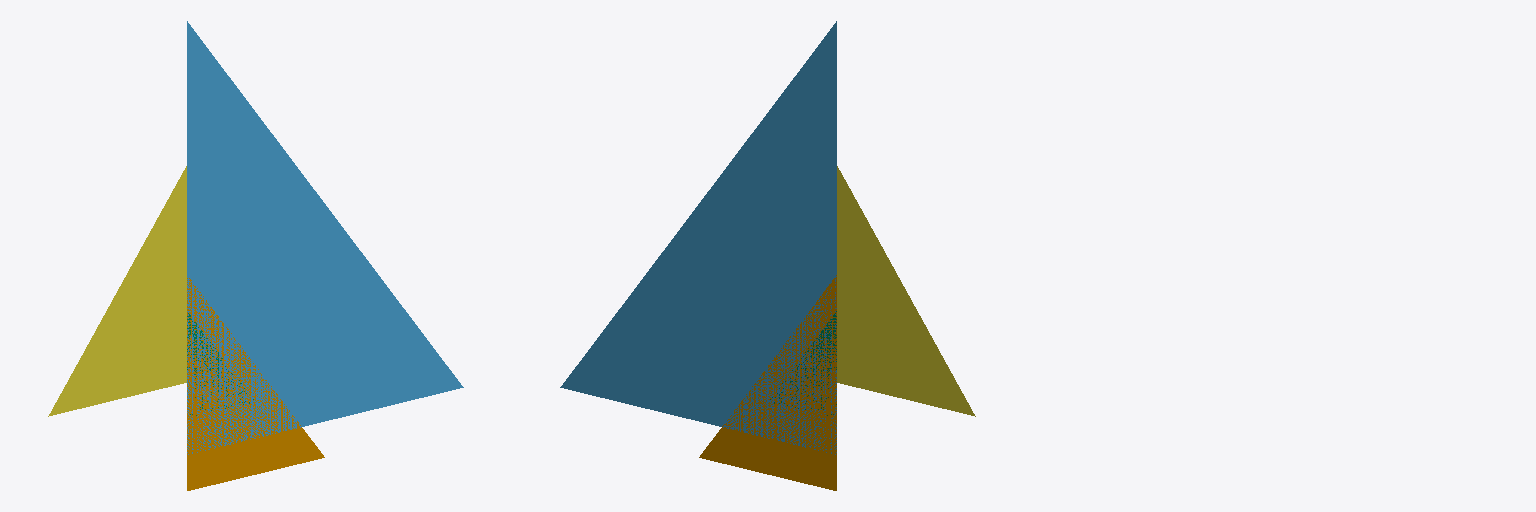
The robot description file, URDF, robot "mesh_scale":
<?xml version="1.0"?>
<!--
  Mesh-scale and file-correction cases, which no other fixture reaches: every
  visual elsewhere is a primitive, so <mesh scale> and a mesh file's own units
  were never exercised through build_rig.

  triangle_yup_mm.dae is 2000 x 3000 units, declares <unit meter="0.001"> and
  Y_UP, and so measures 2 m x 3 m once its own correction is honoured. Each
  link below multiplies that by a different <mesh scale>.
-->
<robot name="mesh_scale">

  <!-- No scale: the file's own millimetre/Y-up correction and nothing else. -->
  <link name="base">
    <visual>
      <origin xyz="0 0 0" rpy="0 0 0"/>
      <geometry><mesh filename="triangle_yup_mm.dae"/></geometry>
    </visual>
  </link>

  <!-- Uniform scale, the millimetre-mesh idiom. Doubles the 2 m x 3 m to
       4 m x 6 m, and must land in the geometry rather than in obj.scale. -->
  <link name="scaled">
    <visual>
      <origin xyz="0 0 0" rpy="0 0 0"/>
      <geometry><mesh filename="triangle_yup_mm.dae" scale="2 2 2"/></geometry>
    </visual>
  </link>

  <!-- Single-value shorthand. The URDF parser returns a bare float for this,
       which used to reach Matrix.Diagonal as a 0-d array and abort the whole
       import rather than this one visual. -->
  <link name="shorthand">
    <visual>
      <origin xyz="0 0 0" rpy="0 0 0"/>
      <geometry><mesh filename="triangle_yup_mm.dae" scale="0.5"/></geometry>
    </visual>
  </link>

  <!-- Mirrored, as symmetric robots do to reuse one file for a left and a
       right part. Reverses winding, so the normals have to be flipped back. -->
  <link name="mirrored">
    <visual>
      <origin xyz="0 0 0" rpy="0 0 0"/>
      <geometry><mesh filename="triangle_yup_mm.dae" scale="-1 1 1"/></geometry>
    </visual>
  </link>

  <joint name="joint1" type="revolute">
    <parent link="base"/>
    <child link="scaled"/>
    <origin xyz="0 0 0.5" rpy="0 0 0"/>
    <axis xyz="0 0 1"/>
    <limit lower="-3.14" upper="3.14" effort="10" velocity="1"/>
  </joint>

  <joint name="joint2" type="revolute">
    <parent link="scaled"/>
    <child link="shorthand"/>
    <origin xyz="0 0 0.5" rpy="0 0 0"/>
    <axis xyz="0 1 0"/>
    <limit lower="-3.14" upper="3.14" effort="10" velocity="1"/>
  </joint>

  <joint name="joint3" type="revolute">
    <parent link="shorthand"/>
    <child link="mirrored"/>
    <origin xyz="0 0 0.5" rpy="0 0 0"/>
    <axis xyz="0 1 0"/>
    <limit lower="-3.14" upper="3.14" effort="10" velocity="1"/>
  </joint>

</robot>

--- Facts derived from the render (not from the file) ---
The picture shows the robot from 3 angles, left to right: view 1: azimuth 30°, elevation 25°; view 2: azimuth 150°, elevation 25°; view 3: azimuth 270°, elevation 25°; orthographic projection.
Robot: mesh_scale — 4 links, 3 joints (3 revolute); root link base; default pose: every joint at zero.
Links seen in each view (by area): view 1: scaled, mirrored, base; view 2: scaled, mirrored, base; view 3: none.
Link boxes in pixels (x1,y1,x2,y2): scaled: [187, 21, 463, 454]; mirrored: [48, 166, 186, 416]; base: [187, 278, 324, 490]; scaled: [560, 21, 836, 454]; mirrored: [837, 166, 975, 416]; base: [699, 275, 836, 490].
Size in the robot's own frame: 6 by 0 by 6.5 metres.
4 mesh visuals loaded from 1 distinct referenced files (1 Collada DAE).
